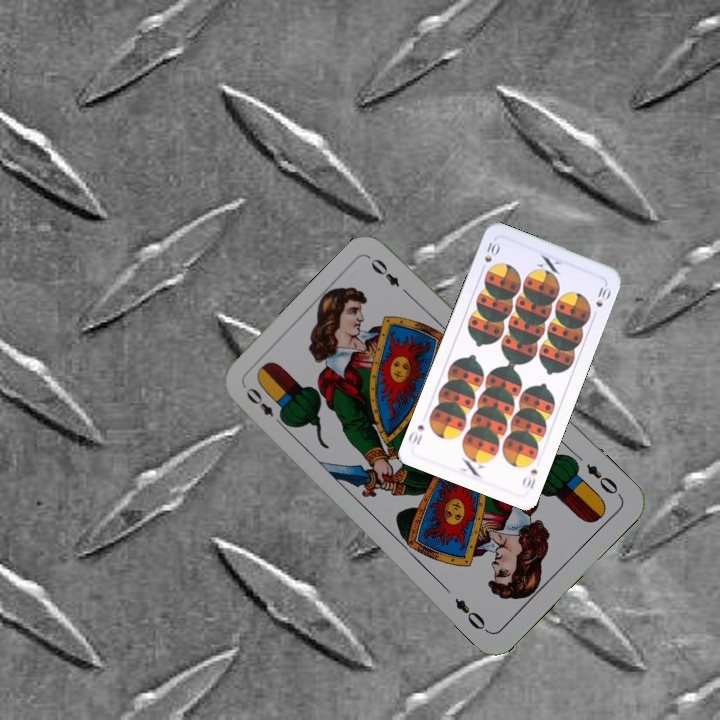EO: (241, 383, 288, 430), (582, 459, 624, 500)
S10: (480, 237, 503, 265), (518, 465, 540, 492)
